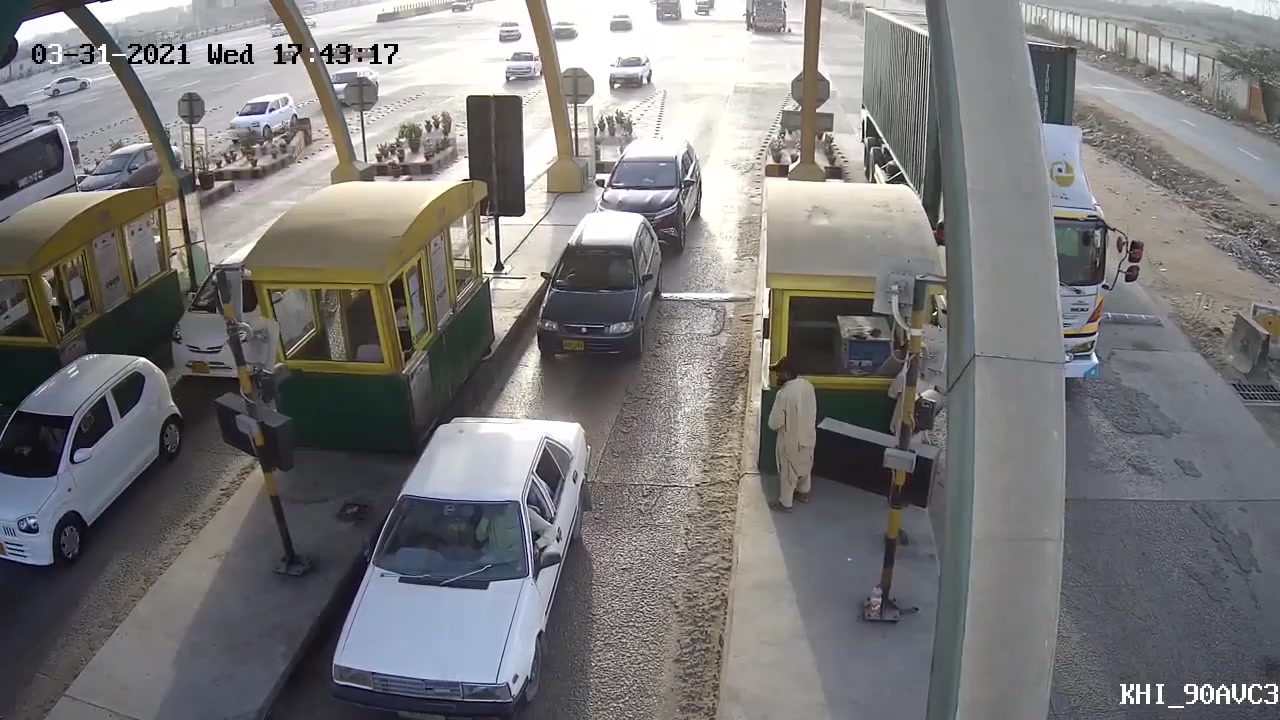F1: (276, 416, 608, 703), (535, 211, 664, 368), (595, 137, 706, 248)
